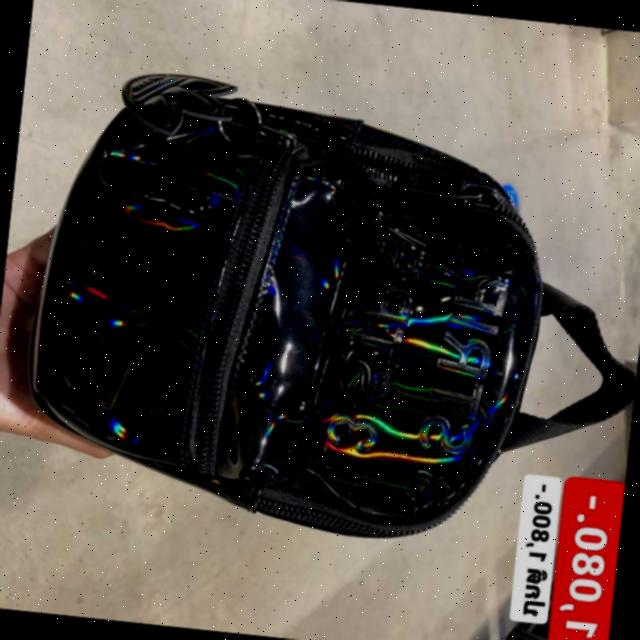Handbag: (18, 54, 568, 551)
